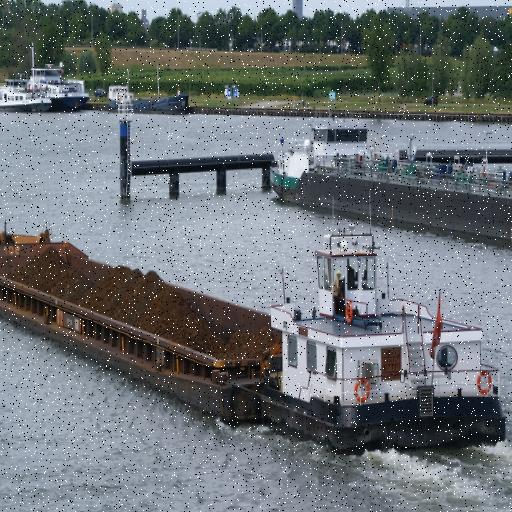tugboat: (257, 222, 512, 460)
